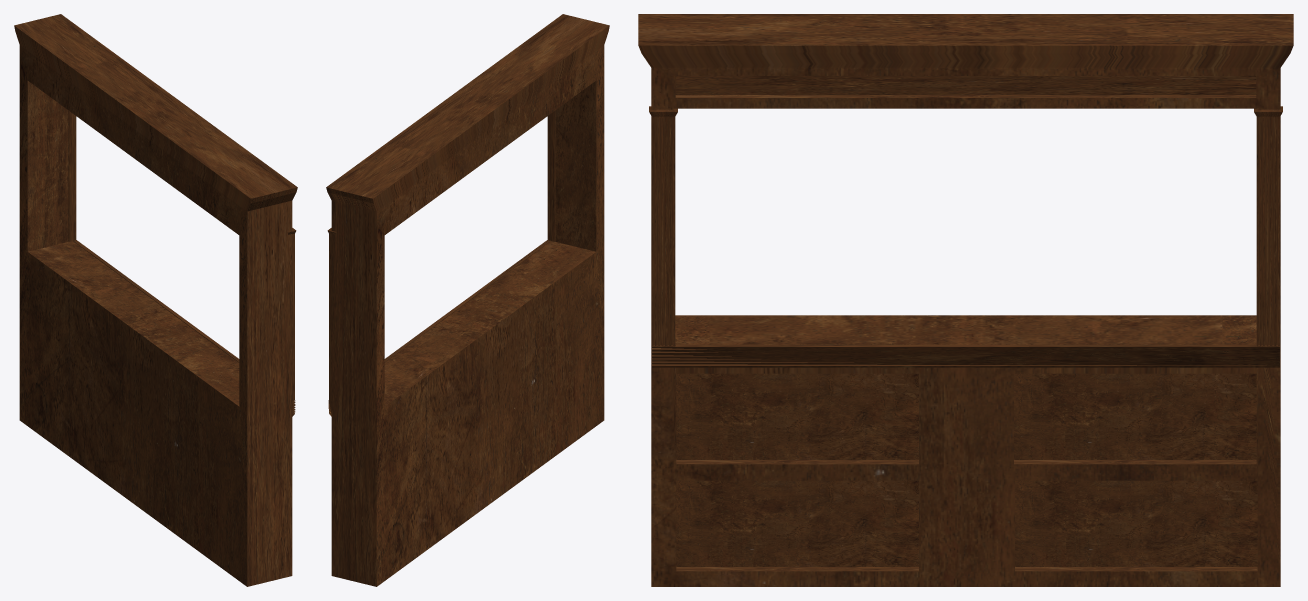
The model's file is front desk 1.fbx.
The picture shows the model from 3 angles, left to right: view 1: azimuth 30°, elevation 25°; view 2: azimuth 150°, elevation 25°; view 3: azimuth 270°, elevation 25°; orthographic projection. The views are drawn at different scales.
Parts seen in each view (by area): view 1: Cube, Cube.002, Cube.003, Cube.001; view 2: Cube, Cube.001, Cube.003, Cube.002; view 3: Cube, Cube.003, Cube.001, Cube.002.
Part boxes in pixels (x1,y1,x2,y2): Cube: (14, 14, 297, 586); Cube.002: (68, 111, 76, 241); Cube.003: (73, 240, 295, 416); Cube.001: (287, 228, 296, 400); Cube: (326, 14, 609, 586); Cube.001: (547, 111, 555, 241); Cube.003: (328, 240, 550, 416); Cube.002: (327, 228, 336, 400); Cube: (638, 14, 1293, 586); Cube.003: (652, 344, 1279, 367); Cube.001: (649, 106, 677, 346); Cube.002: (1254, 106, 1282, 346).
Bounding box in the file's own units: 73.72 × 558 × 611.
Materials: 1 (1 with a texture image).
